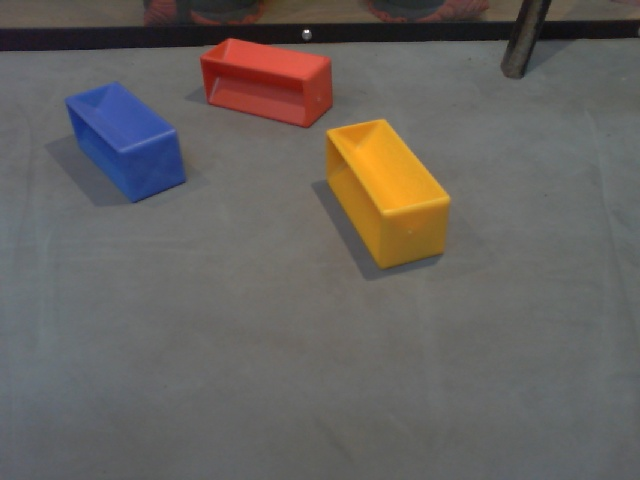BlueSample: (63, 80, 189, 206)
RedSample: (197, 35, 333, 133)
YellowSample: (323, 115, 454, 275)
